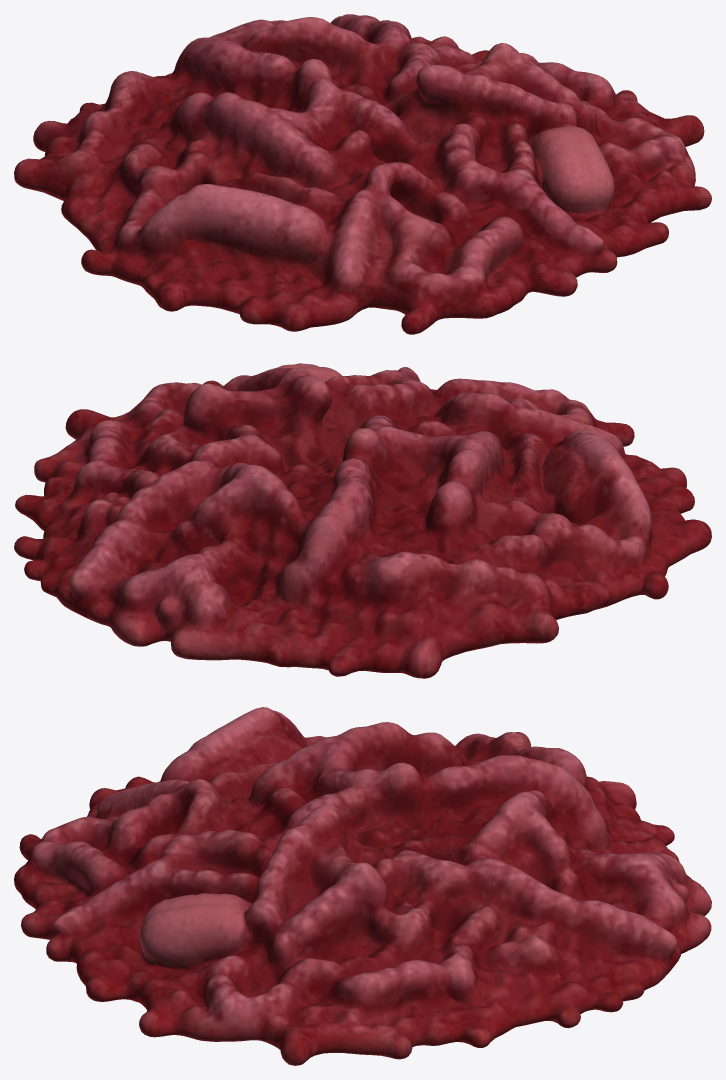
The model's file is SARGM0_2026-08-17T000630.698.glb.
3 views of the same model, one above another, from view 1: azimuth 30°, elevation 25°; view 2: azimuth 150°, elevation 25°; view 3: azimuth 270°, elevation 25° (orthographic). The views are drawn at different scales.
Visible parts, largest first — view 1: world; view 2: world; view 3: world.
Boxes of the visible parts, left/top/right/bottom form: world: left=14, top=14, right=711, bottom=334; world: left=14, top=363, right=711, bottom=678; world: left=14, top=707, right=711, bottom=1065.
Bounding box in the file's own units: 1 × 0.2248 × 0.9553.
Materials: 1 (1 with a texture image).
